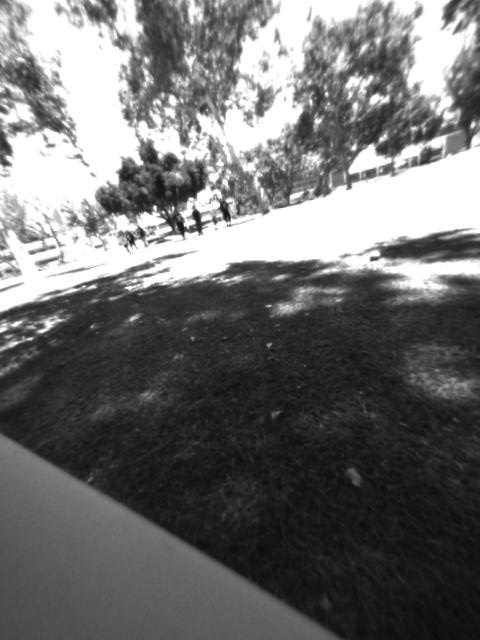dogtoy: (361, 243, 388, 269)
